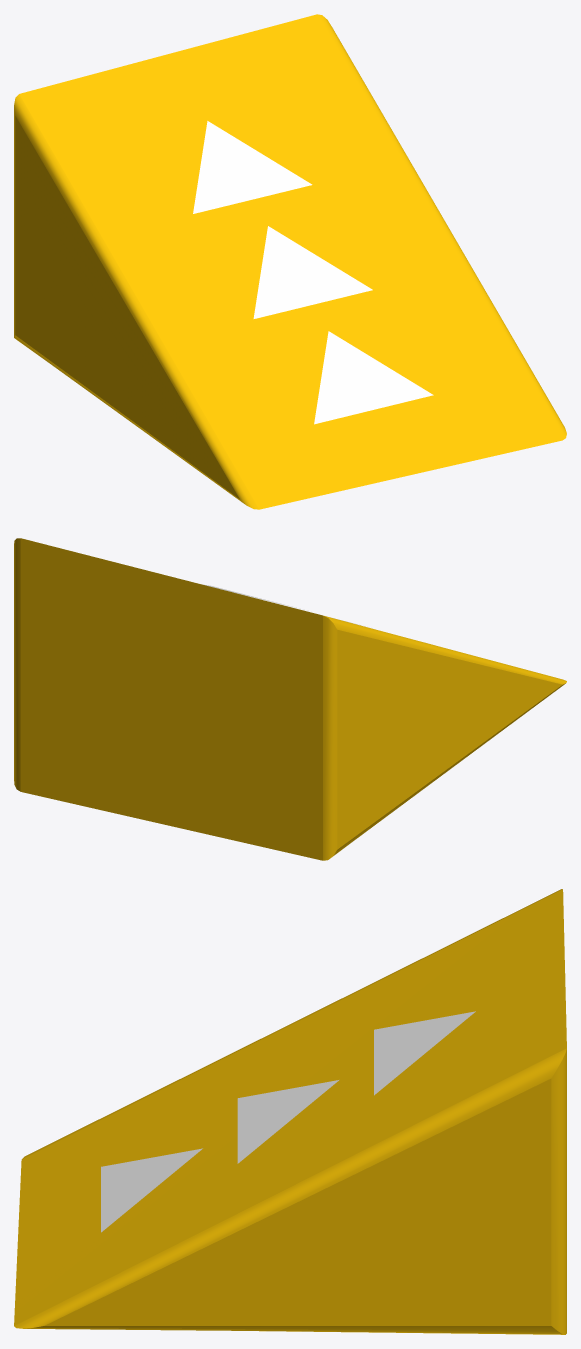
File: ob_doc.fbx
The picture shows the model from 3 angles, top to bottom: view 1: azimuth 30°, elevation 25°; view 2: azimuth 150°, elevation 25°; view 3: azimuth 270°, elevation 25°; orthographic projection. The views are drawn at different scales.
Parts seen in each view (by area): view 1: doc; view 2: doc; view 3: doc.
Part boxes in pixels (x1=…): doc: x1=14, y1=14, x2=566, y2=509; doc: x1=14, y1=538, x2=566, y2=860; doc: x1=14, y1=889, x2=566, y2=1334.
Bounding box in the file's own units: 107 × 80.7 × 142.
